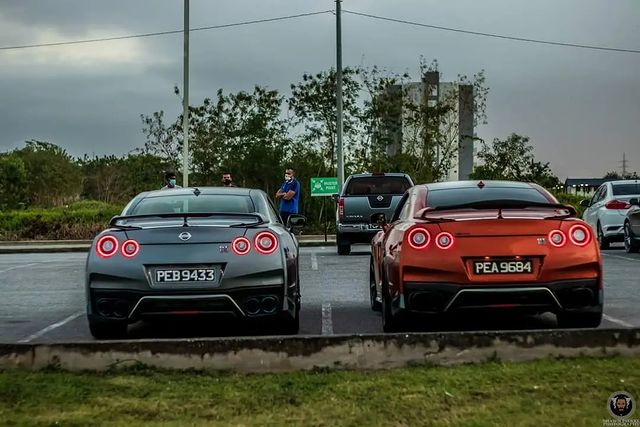License-Plate: (155, 270, 214, 282), (473, 261, 531, 273)
